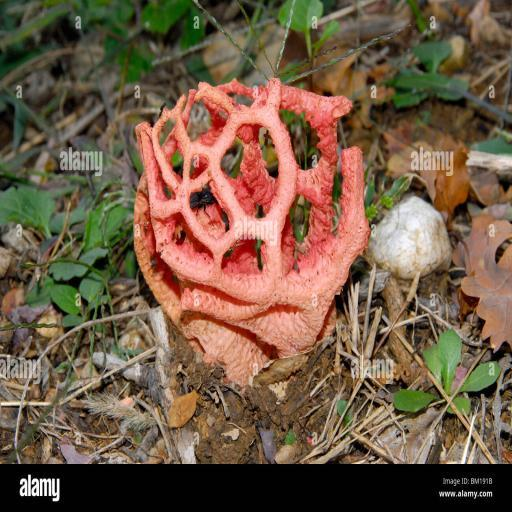mushroom: (130, 72, 367, 391)
